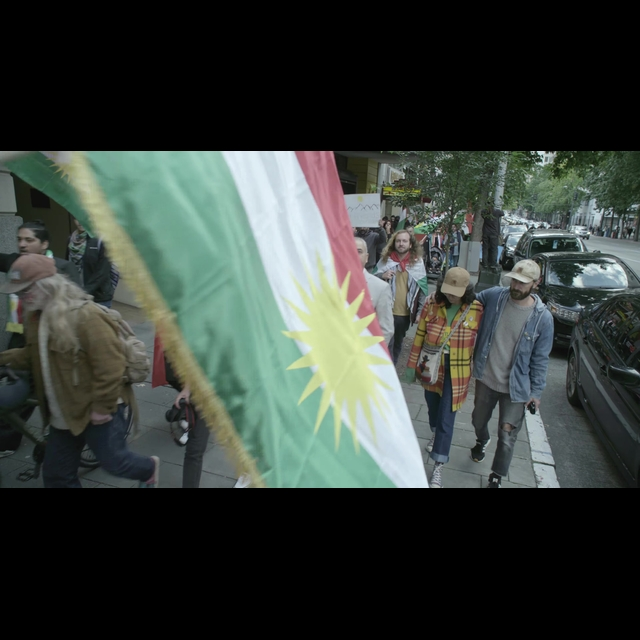IBKY: (251, 243, 396, 442)
